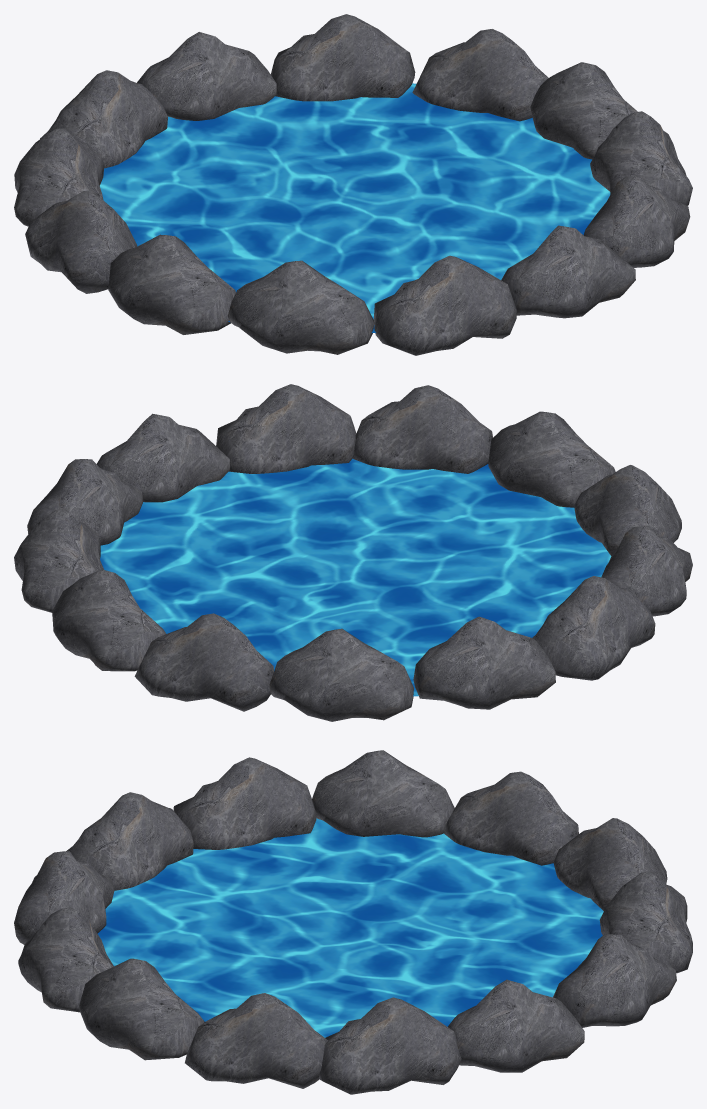
File: estanque.fbx
The picture shows the model from 3 angles, top to bottom: view 1: azimuth 30°, elevation 25°; view 2: azimuth 150°, elevation 25°; view 3: azimuth 270°, elevation 25°; orthographic projection.
Visible parts, largest first — view 1: Circle.001, rock.009, rock.003, rock.010, rock.004, rock.008, rock.011, rock.002, rock.005, rock.001, rock.012, rock.007 (+2 smaller); view 2: Circle.001, rock.001, rock.006, rock.002, rock.007, rock.008, rock.005, rock.009, rock.010, rock.013, rock.011, rock.003 (+2 smaller); view 3: Circle.001, rock.012, rock.013, rock.005, rock.004, rock.011, rock.007, rock.006, rock.003, rock.010, rock.008, rock.001 (+2 smaller).
Boxes of the visible parts, bbox=[...] form: Circle.001: bbox=[100, 83, 610, 332]; rock.009: bbox=[373, 255, 516, 355]; rock.003: bbox=[228, 260, 374, 354]; rock.010: bbox=[270, 14, 415, 101]; rock.004: bbox=[108, 234, 235, 334]; rock.008: bbox=[501, 225, 635, 318]; rock.011: bbox=[412, 29, 548, 121]; rock.002: bbox=[137, 32, 276, 120]; rock.005: bbox=[25, 191, 137, 293]; rock.001: bbox=[40, 70, 167, 168]; rock.012: bbox=[530, 62, 637, 159]; rock.007: bbox=[583, 176, 690, 267]; Circle.001: bbox=[100, 458, 611, 696]; rock.001: bbox=[269, 628, 413, 721]; rock.006: bbox=[413, 616, 555, 709]; rock.002: bbox=[134, 613, 273, 711]; rock.007: bbox=[216, 384, 356, 473]; rock.008: bbox=[352, 385, 492, 473]; rock.005: bbox=[532, 576, 655, 680]; rock.009: bbox=[488, 411, 615, 507]; rock.010: bbox=[52, 569, 166, 671]; rock.013: bbox=[97, 413, 229, 502]; rock.011: bbox=[14, 509, 103, 612]; rock.003: bbox=[574, 465, 681, 555]; Circle.001: bbox=[97, 818, 603, 1037]; rock.012: bbox=[319, 997, 461, 1094]; rock.013: bbox=[185, 993, 328, 1088]; rock.005: bbox=[312, 750, 454, 837]; rock.004: bbox=[173, 757, 316, 849]; rock.011: bbox=[448, 979, 584, 1072]; rock.007: bbox=[79, 958, 204, 1060]; rock.006: bbox=[444, 771, 578, 865]; rock.003: bbox=[66, 792, 193, 890]; rock.010: bbox=[553, 934, 676, 1027]; rock.008: bbox=[18, 907, 113, 1012]; rock.001: bbox=[553, 818, 667, 910].
Bounding box in the file's own units: 90.04 × 12.55 × 89.84.
